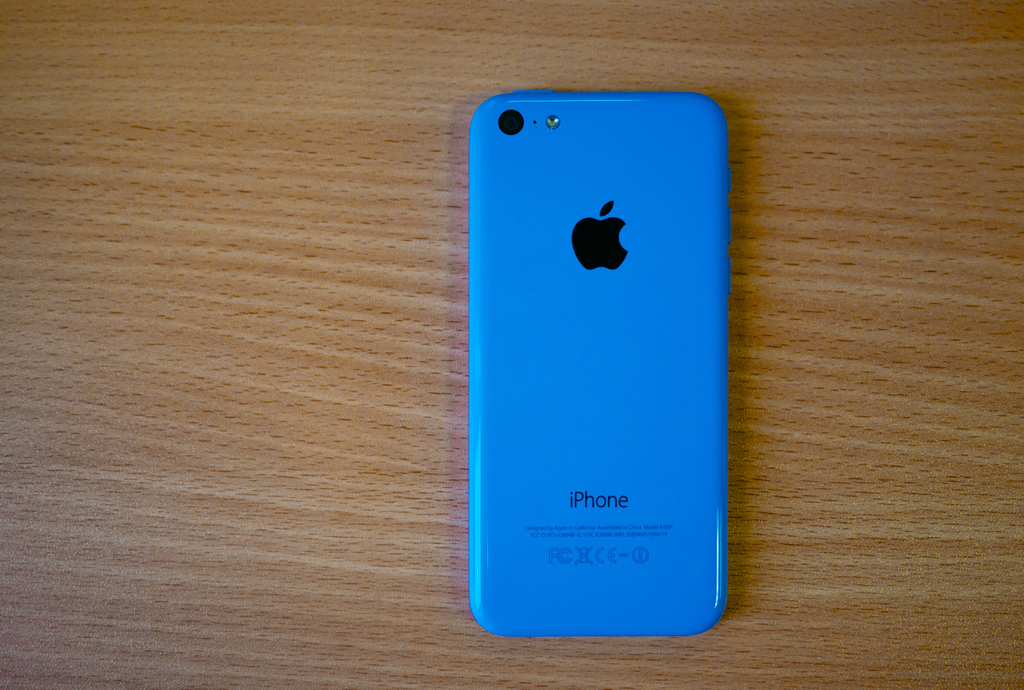mobile phone: (451, 106, 735, 646)
